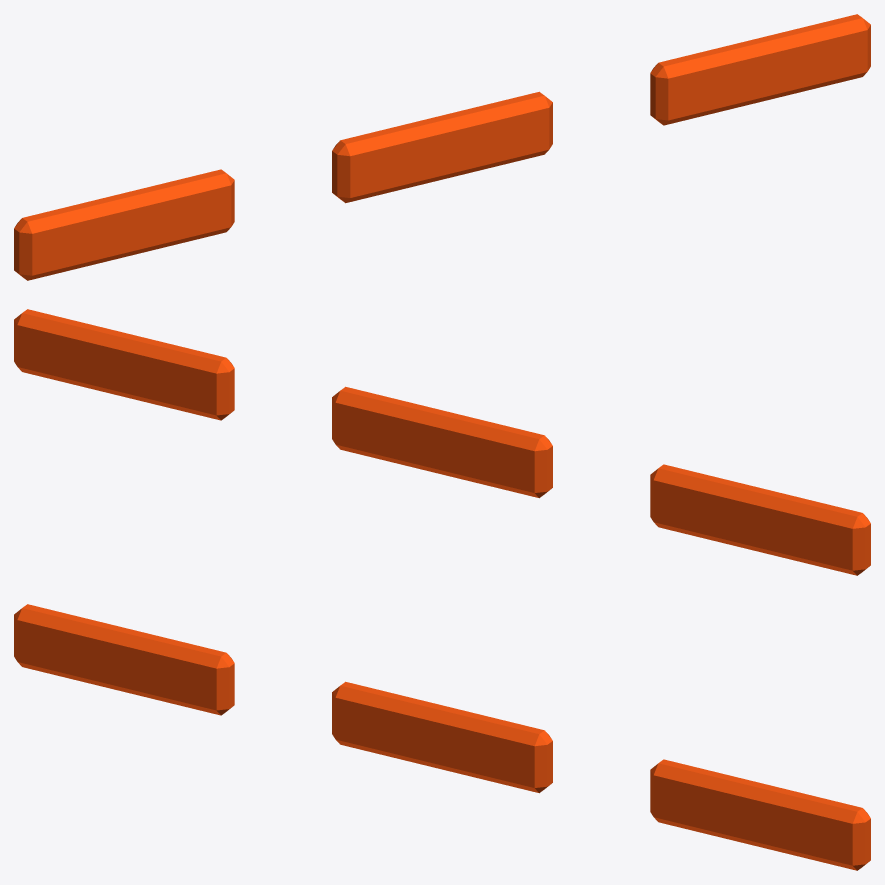
File: SM_MP_Station_ReadyIndicator.fbx
3 views of the same model, one above another, from view 1: azimuth 30°, elevation 25°; view 2: azimuth 150°, elevation 25°; view 3: azimuth 330°, elevation 25° (orthographic).
Visible parts, largest first — view 1: SM_MP_Station_ReadyIndicator; view 2: SM_MP_Station_ReadyIndicator; view 3: SM_MP_Station_ReadyIndicator.
Boxes of the visible parts, x1,y1,x2,y2 form: SM_MP_Station_ReadyIndicator: (14, 14, 870, 280); SM_MP_Station_ReadyIndicator: (14, 309, 870, 575); SM_MP_Station_ReadyIndicator: (14, 604, 870, 870).
Bounding box in the file's own units: 83 × 2.5 × 5.5.
Materials: 1 (1 with a texture image).
